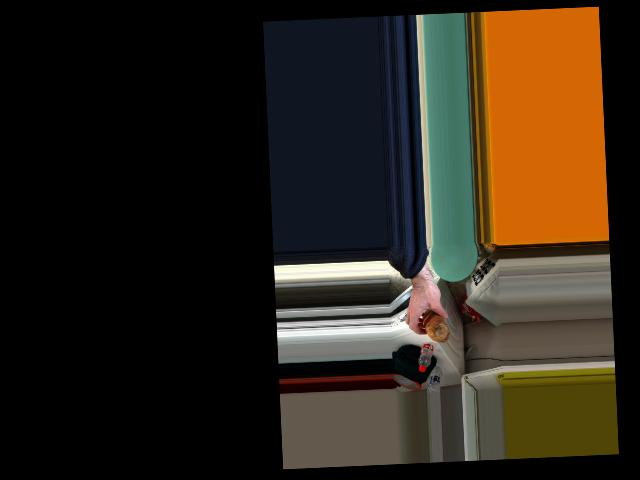sweet_potato: (420, 307, 450, 343)
